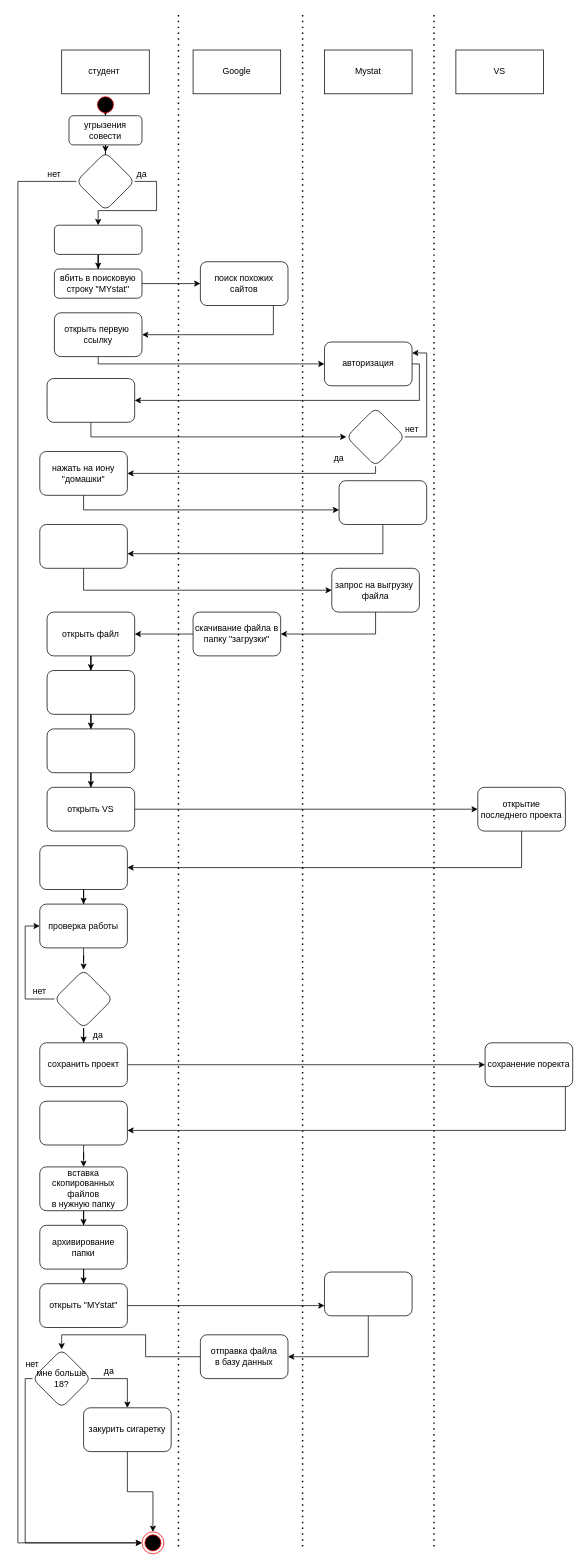
Some shapes in this 585 by 1567 pixel diagram are drawn without their labels. The box of each missing label's shape, as (x1, y1, x2, y2) in pixels:
ввод: логин, пароль: (46, 378, 135, 422)
данные введены правильно?: (346, 407, 405, 466)
есть ли интернет?: (76, 151, 135, 211)
копирование нужных файлов: (39, 1100, 127, 1145)
нажать на "загрузить домашку": (39, 524, 127, 568)
нажать на кнопку "сдать домашку": (324, 1271, 412, 1316)
открыть гугл: (54, 224, 142, 254)
перейти на страницу "домашки": (338, 480, 427, 525)
понять задание: (46, 728, 135, 773)
прочитать задание: (46, 670, 135, 714)
работа в VS: (39, 845, 127, 890)
работа завершена?: (54, 969, 113, 1028)
